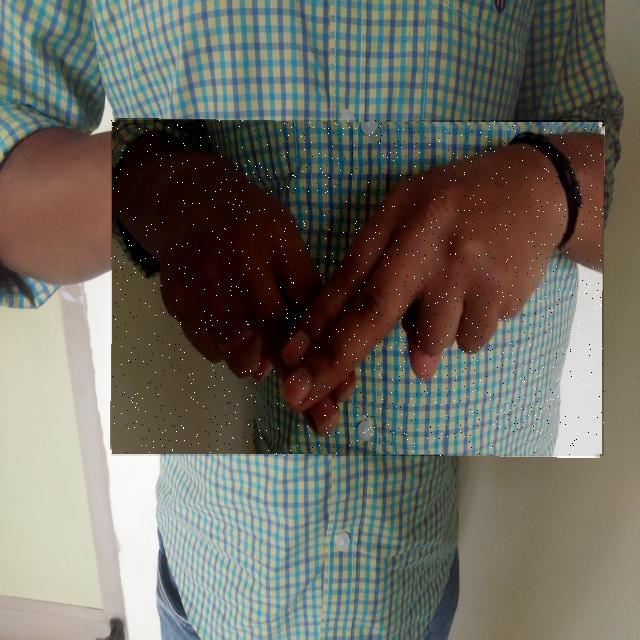F: (111, 120, 604, 457)
